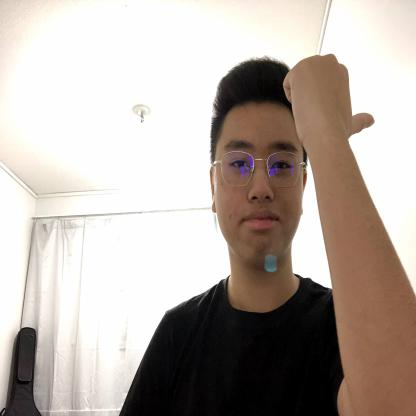left: (281, 52, 375, 161)
